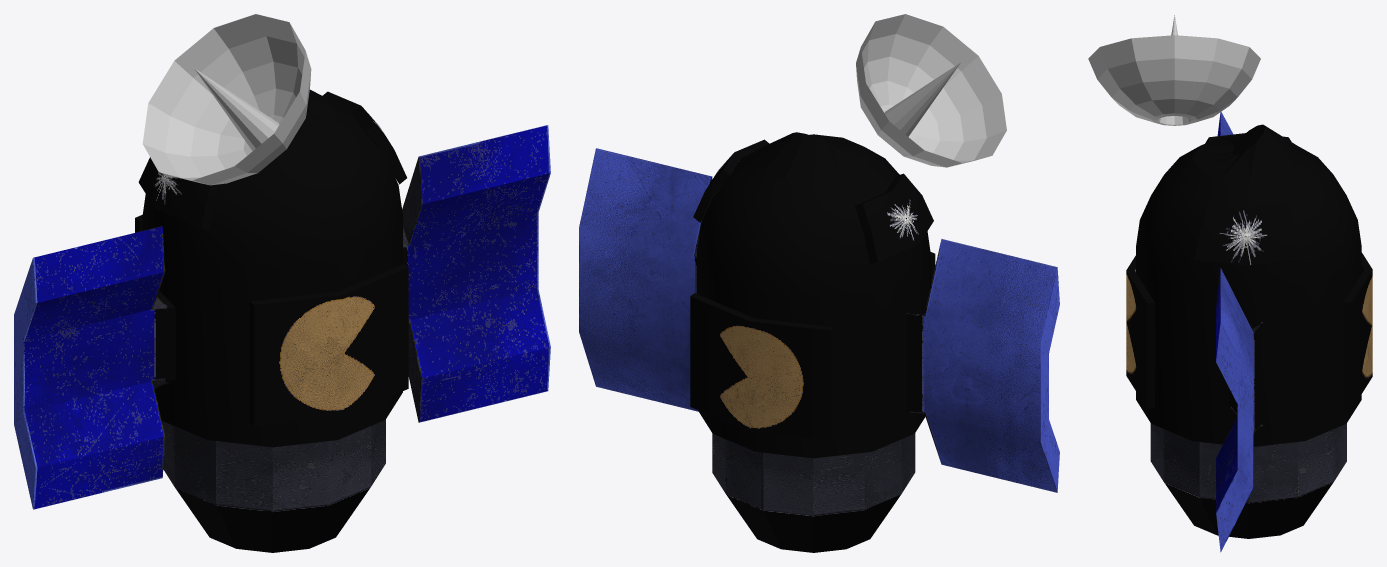
Rendered from satellite.glb.
3 views of the same model, side by side, from view 1: azimuth 30°, elevation 25°; view 2: azimuth 150°, elevation 25°; view 3: azimuth 270°, elevation 25° (orthographic). The views are drawn at different scales.
Parts seen in each view (by area): view 1: Minisatellite_Material #211_0, Miniantenna_02 - Default_0; view 2: Minisatellite_Material #211_0, Miniantenna_02 - Default_0; view 3: Minisatellite_Material #211_0, Miniantenna_02 - Default_0.
Part boxes in pixels (x1,y1,x2,y2): Minisatellite_Material #211_0: [14, 89, 550, 552]; Miniantenna_02 - Default_0: [142, 14, 311, 185]; Minisatellite_Material #211_0: [579, 132, 1059, 552]; Miniantenna_02 - Default_0: [856, 14, 1006, 167]; Minisatellite_Material #211_0: [1126, 112, 1372, 552]; Miniantenna_02 - Default_0: [1088, 15, 1260, 125].
Size of the model in its own units: 0.3242 by 0.3233 by 0.1789.
2 materials, 1 textured.
